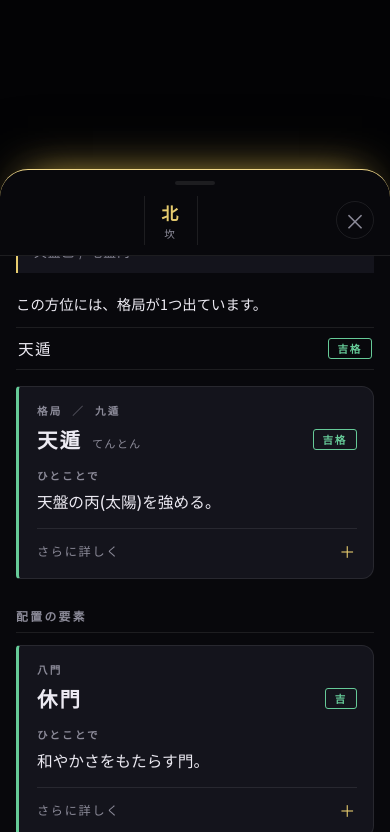
BottomSheet › 学習カードは「一般的な意味」と「今回の盤では」を分けて出す
The width and height of the screenshot is (390, 832).
(page scrolled)
expect the element with class "kakkyoku-card" shows "ひとことで": met, box [37,468,100,483]
Click the button with aria-label "天遁をさらに詳しく" at (79, 551), box [37,528,357,572]
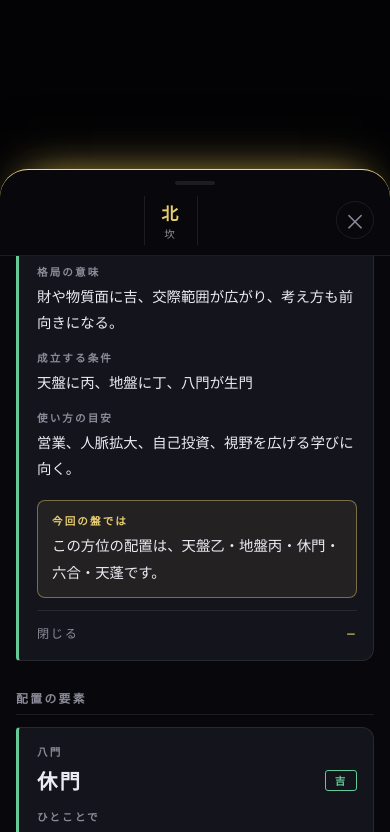
expect the element with class "kakkyoku-card" shows "天盤に丙、地盤に丁、八門が生門": met, box [37,371,253,392]
expect the element with class "kakkyoku-card" shows "営業、人脈拡大、自己投資、視野を広げる学びに向く。": met, box [37,431,354,478]
expect the element with class "is-here" shows "この方位の配置は、天盤乙・地盤丙・休門・六合・天蓬です。": met, box [52,534,340,582]
